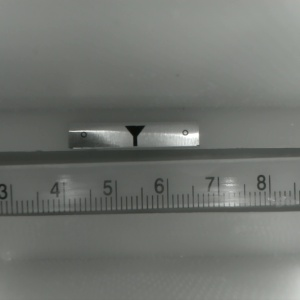3: (0, 184, 8, 199)
4: (49, 183, 59, 198)
5: (102, 180, 112, 196)
6: (153, 177, 163, 193)
7: (205, 176, 215, 191)
8: (256, 175, 265, 190)
finger: (123, 126, 145, 147)
